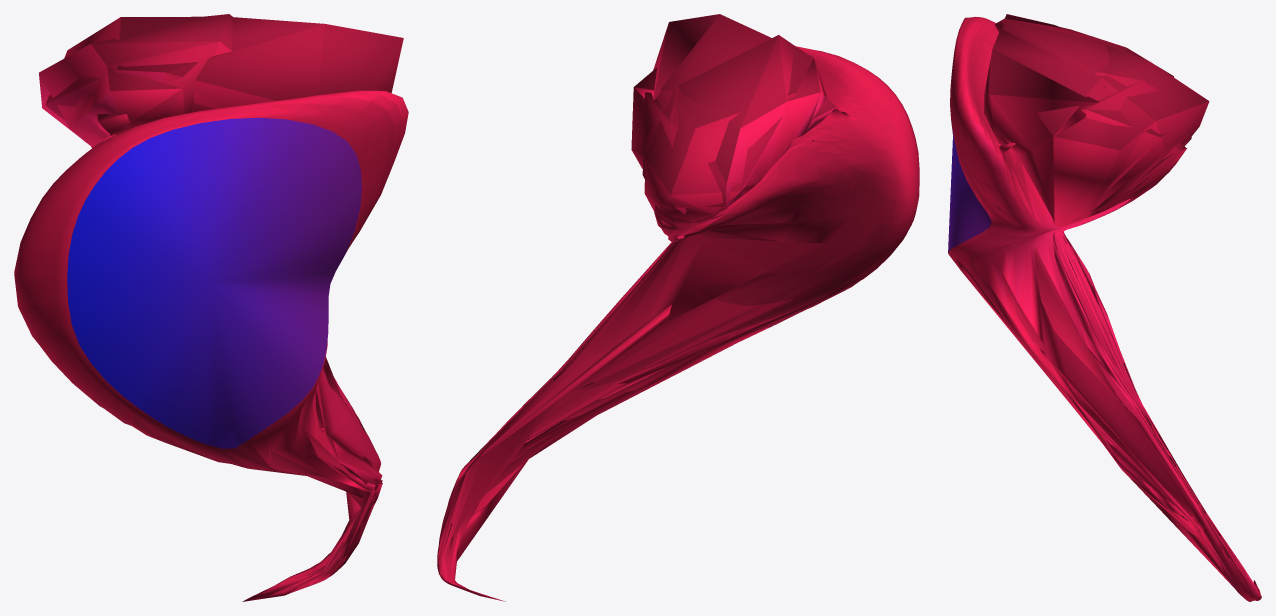
The model's file is romnatic_emotion.glb.
3 renders of one model, left to right at view 1: azimuth 30°, elevation 25°; view 2: azimuth 150°, elevation 25°; view 3: azimuth 270°, elevation 25°, orthographic. The views are drawn at different scales.
Parts seen in each view (by area): view 1: romanticemotion; view 2: romanticemotion; view 3: romanticemotion.
Boxes of the visible parts, x1,y1,x2,y2 form: romanticemotion: (14, 14, 408, 601); romanticemotion: (437, 14, 919, 601); romanticemotion: (948, 14, 1261, 601).
Size of the model in its own units: 0.3281 by 0.4551 by 0.2613.
2 materials, 2 textured.
